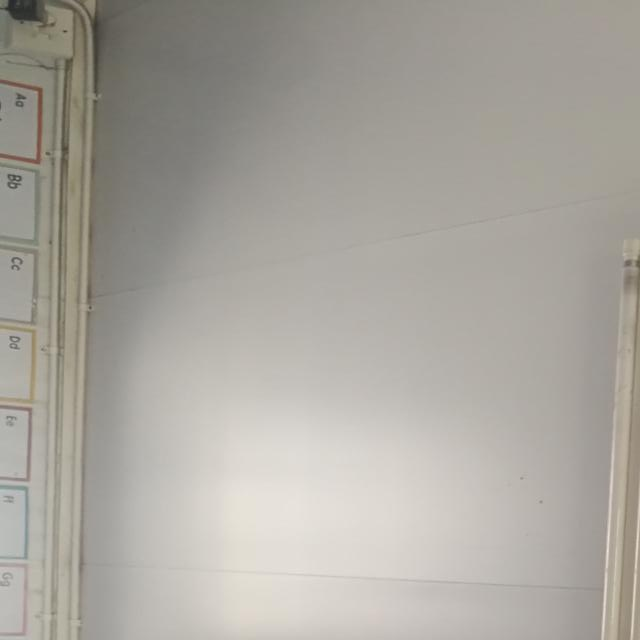fluorescent tube: (489, 195, 640, 640)
